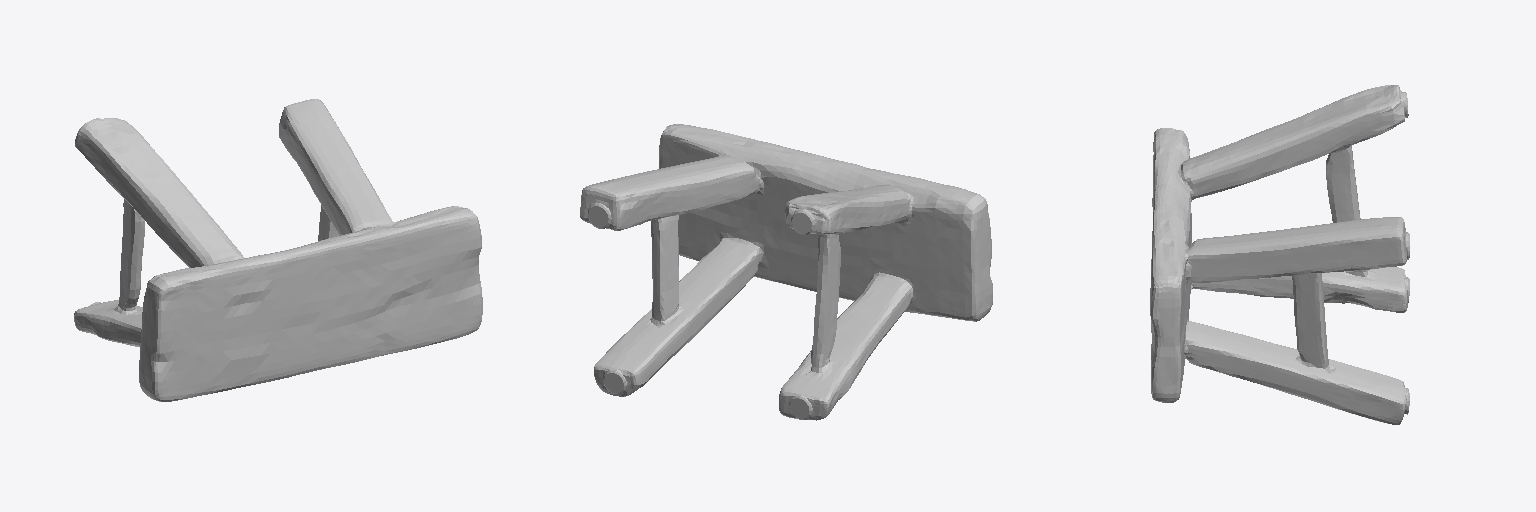
File: wooden_stool.obj
The picture shows the model from 3 angles: view 1: azimuth 30°, elevation 25°; view 2: azimuth 150°, elevation 25°; view 3: azimuth 270°, elevation 25°; orthographic projection.
Visible parts, largest first — view 1: wooden_stool_02; view 2: wooden_stool_02; view 3: wooden_stool_02.
Boxes of the visible parts, x1,y1,x2,y2 form: wooden_stool_02: [74, 99, 482, 401]; wooden_stool_02: [580, 124, 992, 420]; wooden_stool_02: [1150, 85, 1409, 424].
Size of the model in its own units: 0.2652 by 0.1831 by 0.1819.